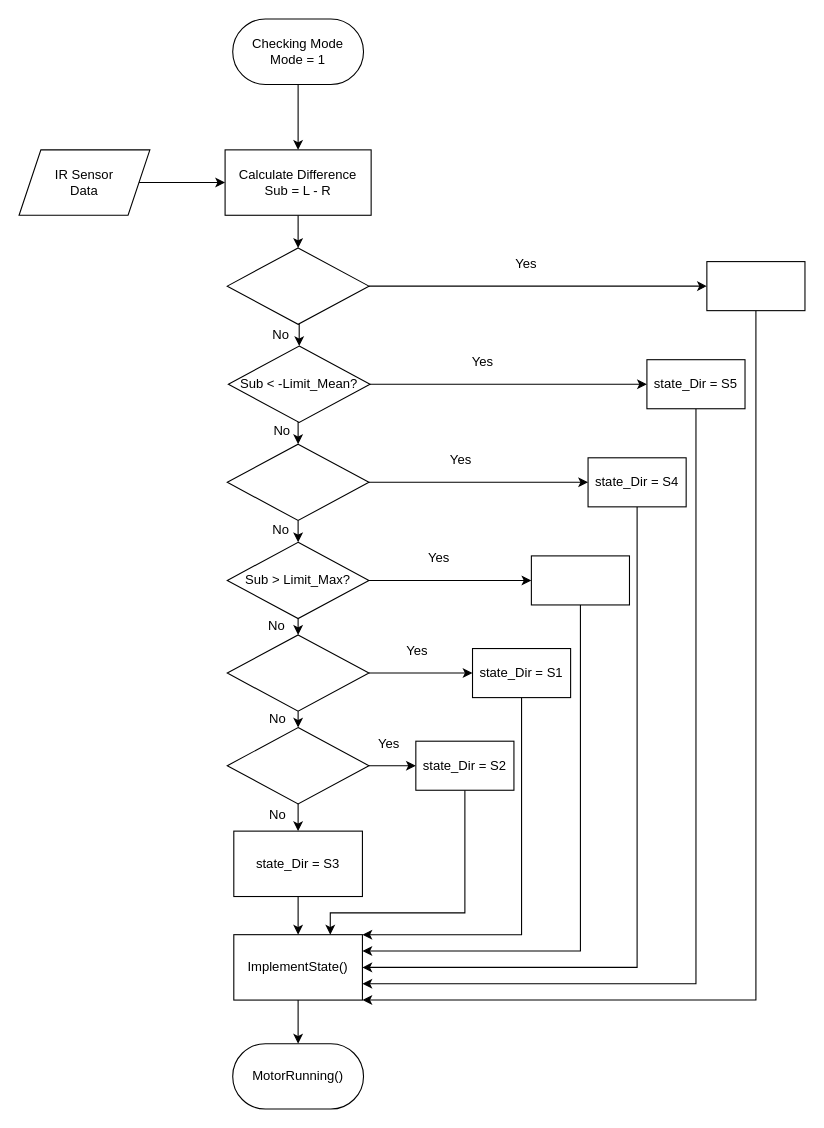
This 824x1128 diagram has some shape labels left out. Here are the shapes that lost their labels. From the top down, the centre of each, then its label:
At [297,285]: "Sub < -Limit_Max?".
At [755,286]: "state_Dir = S6".
At [297,481]: "Sub < -Limit_Min?".
At [579,580]: "state_Dir = S0".
At [297,672]: "Sub > Limit_Mean?".
At [297,765]: "Sub > Limit_Min?".
